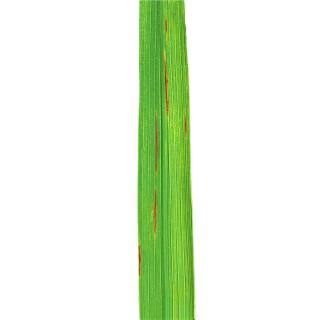Bercak-Cokelat-Sempit: (160, 47, 177, 117), (149, 112, 165, 177), (149, 182, 166, 242), (134, 241, 144, 283), (182, 111, 192, 145), (163, 11, 173, 43)
